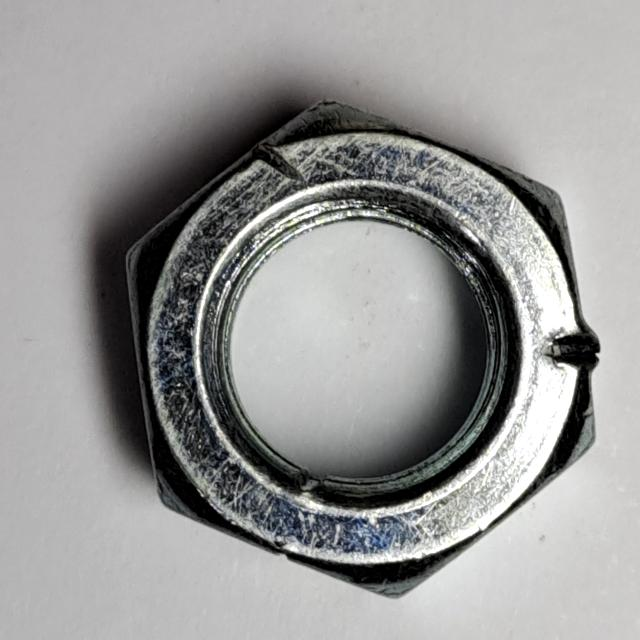Scratches: (102, 79, 619, 614)
